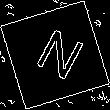N_SW: (25, 23, 85, 87)
